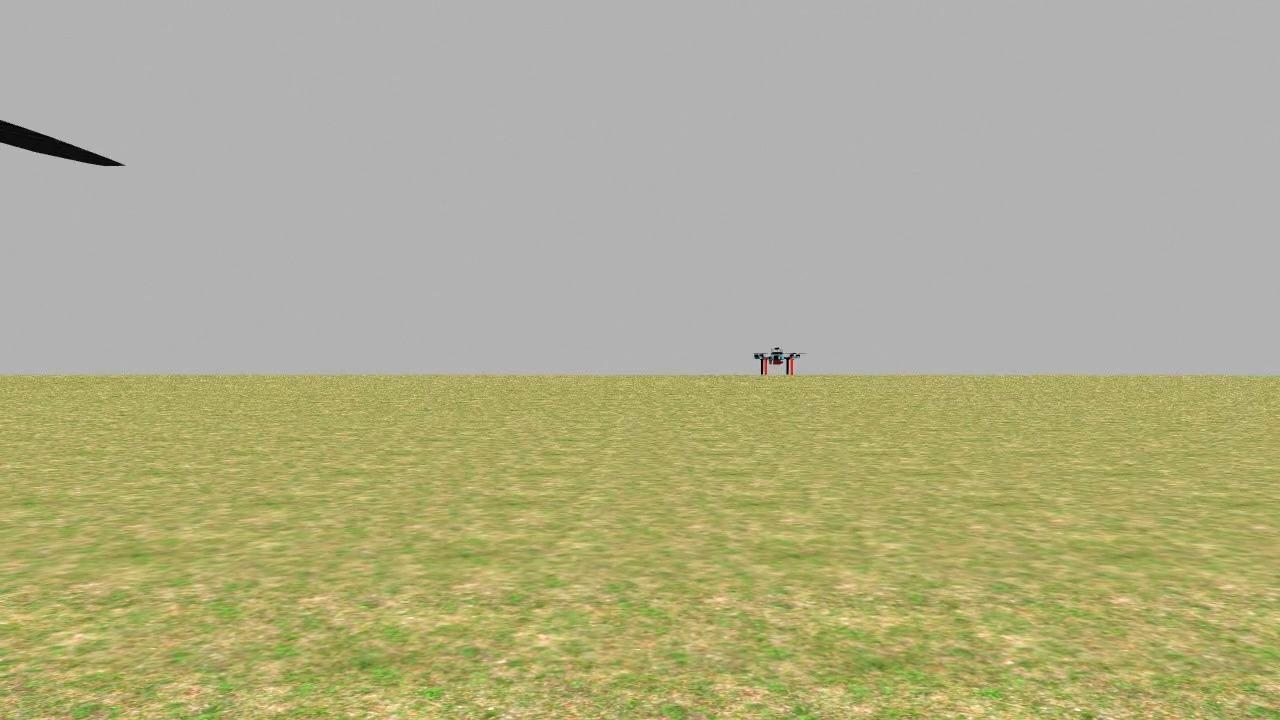UAV: (738, 336, 813, 382)
